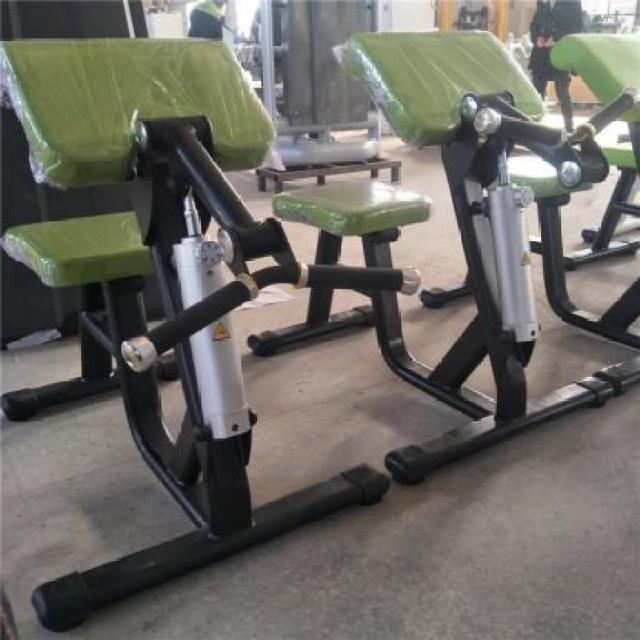arm curl machine: (1, 38, 422, 628)
